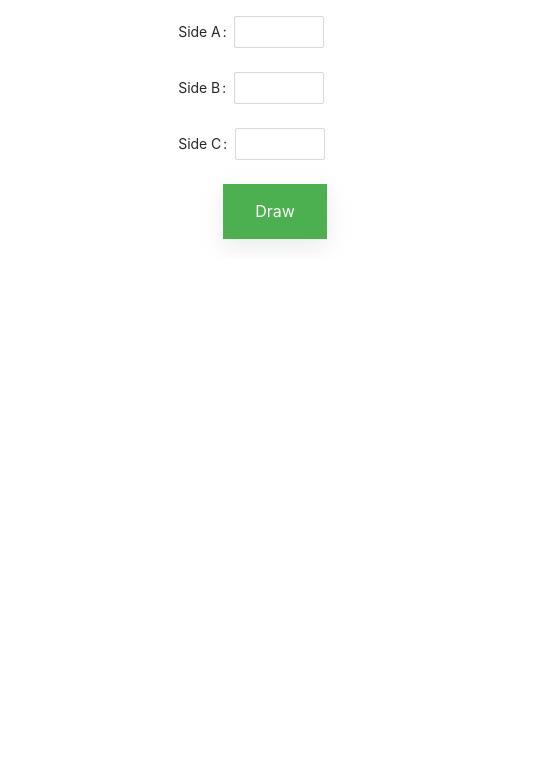
Test: <App /> › calculates the type of the triangle as Equilateral
In the number field with test id "side" next to "Side A": (280, 32) [236, 17, 324, 47], type "200"
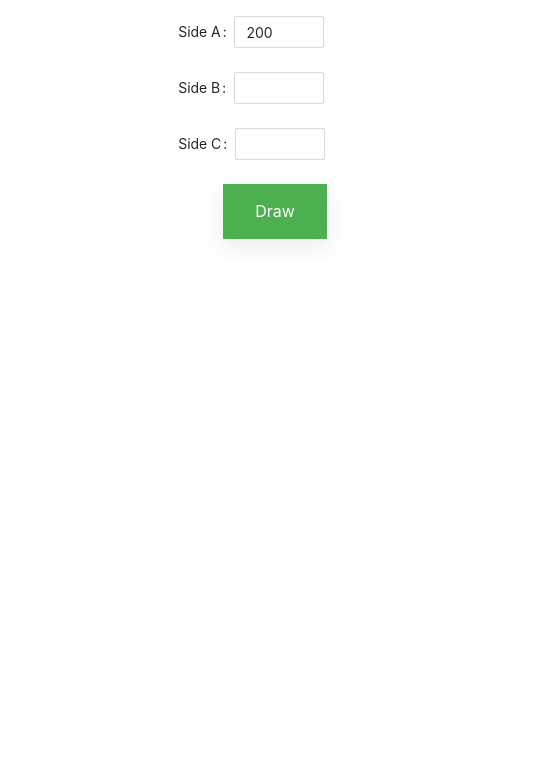
In the number field with test id "side" next to "Side B": (279, 88) [235, 73, 323, 103], type "200"
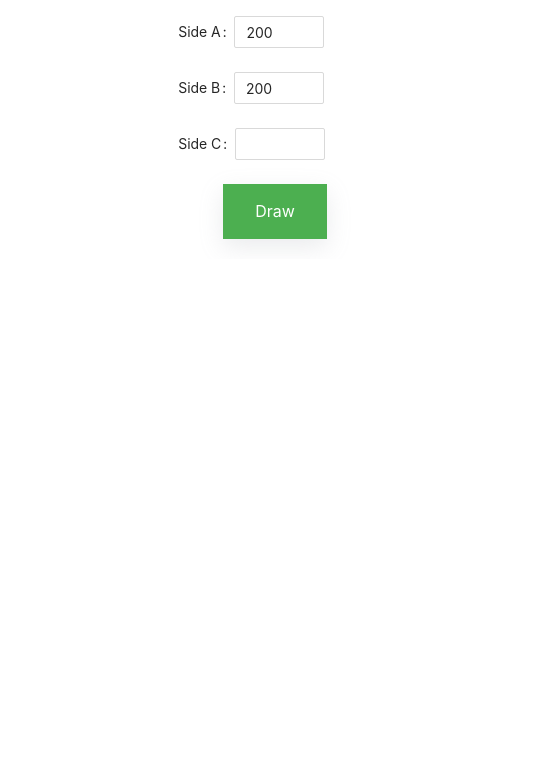
In the number field with test id "side" next to "Side C": (280, 144) [236, 129, 324, 159], type "200"
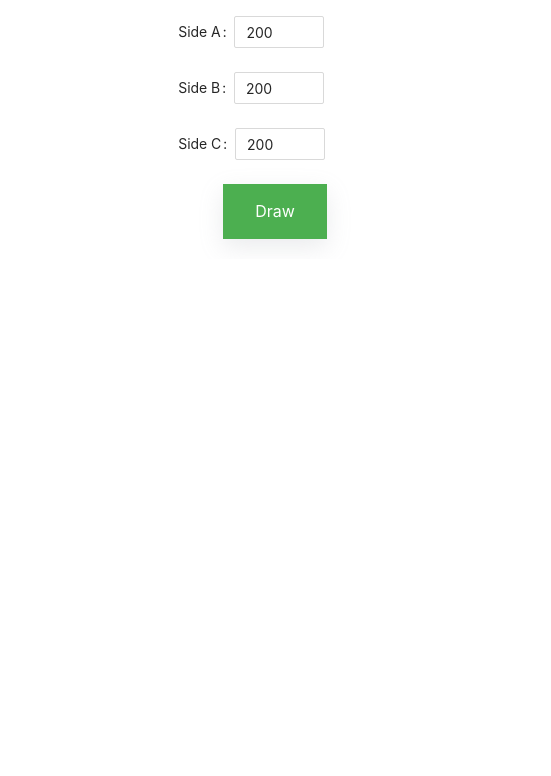
Click the button showing "Draw": (275, 212) [223, 184, 327, 239]
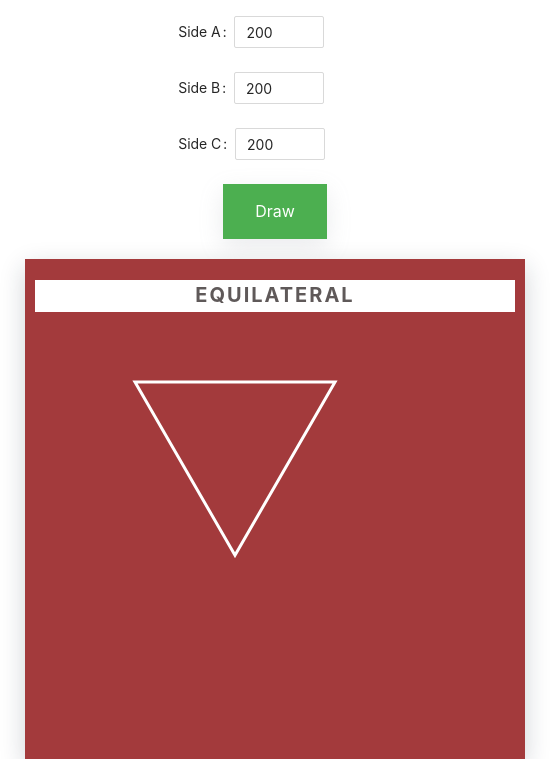
Now the text with test id "triangle-type" reads "Equilateral", box [195, 283, 355, 307]
